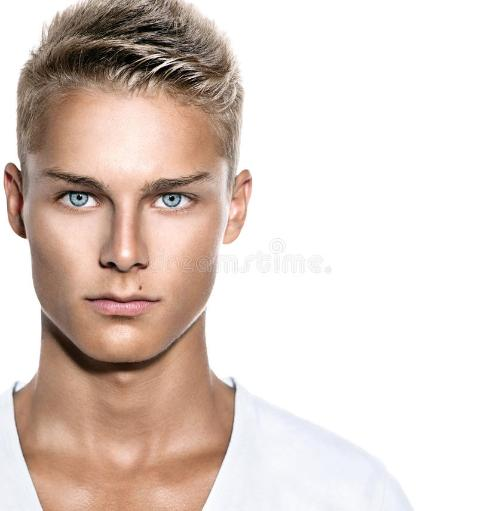left_eye: (148, 191, 205, 213)
left_lip_corner: (151, 297, 167, 310)
right_eye: (52, 190, 106, 212)
right_lip_corner: (82, 295, 97, 310)
